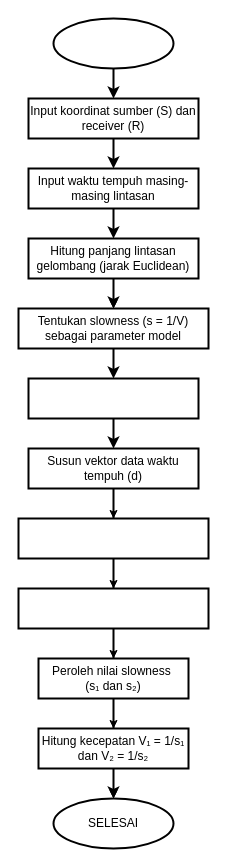
This 226x866 diagram has some shape labels left out. Each missing label, with the centre of its shape:
Bentuk sistem persamaan Gm = d: pixel 113 538
Hitung solusi dengan least squares (m = (GᵀG)⁻¹Gᵀd): pixel 113 608
MULAI: pixel 113 43
Susun matriks kernel G berdasarkan panjang lintasan: pixel 113 398
